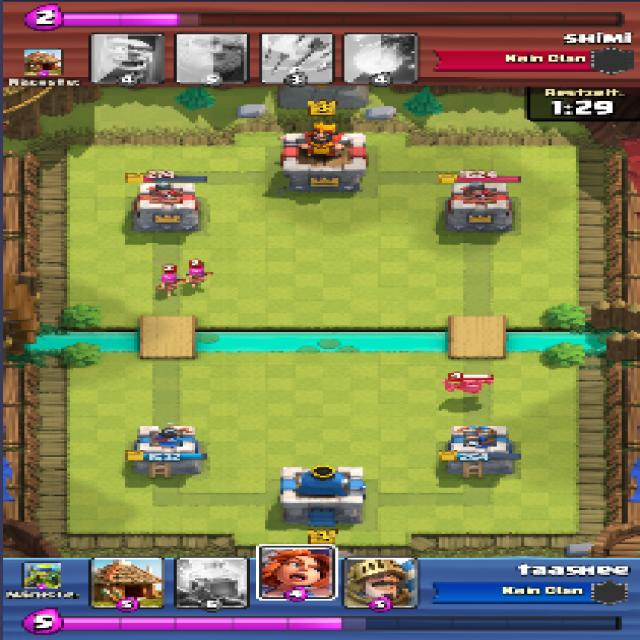Enemy-Archer: (184, 265, 214, 287), (156, 273, 183, 295)
Enemy-MiniPEKKA: (442, 372, 496, 397)
